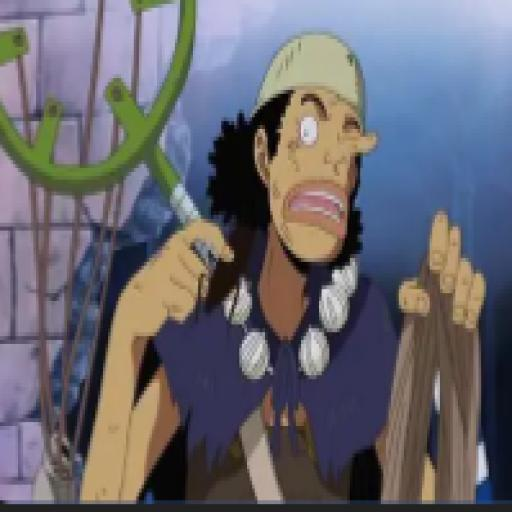Usopp: (72, 29, 512, 512)
